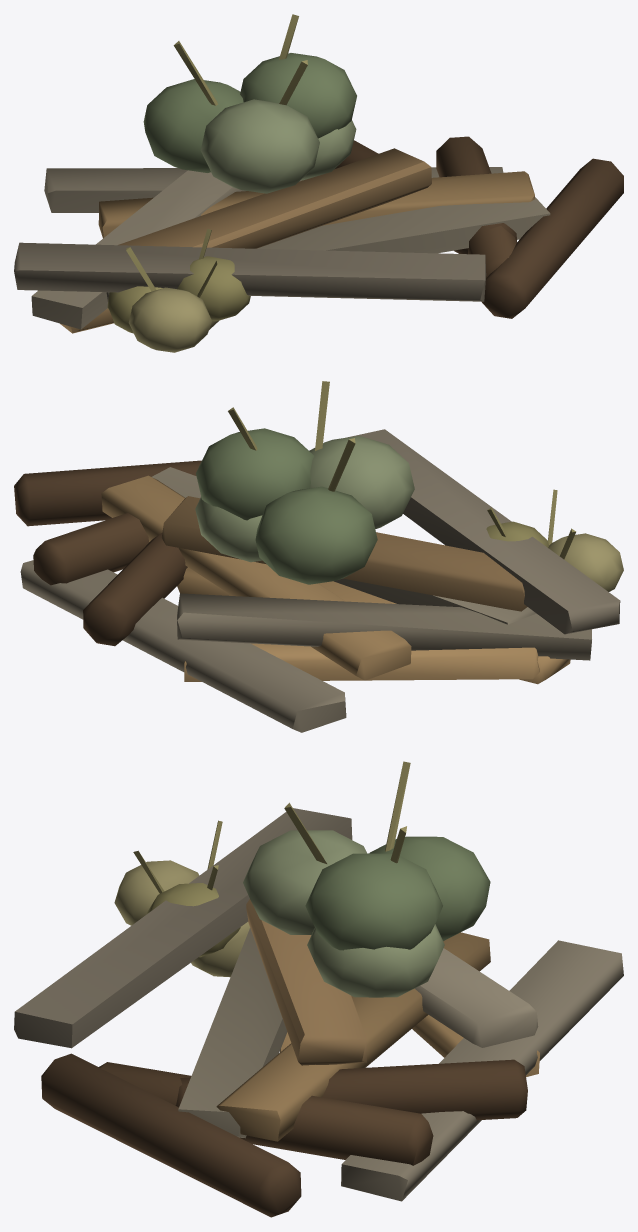
The model's file is timber_lagging_c_lod1.glb.
3 renders of one model, top to bottom at view 1: azimuth 30°, elevation 25°; view 2: azimuth 150°, elevation 25°; view 3: azimuth 270°, elevation 25°, orthographic. The views are drawn at different scales.
Visible parts, largest first — view 1: Surface.001; view 2: Surface.001; view 3: Surface.001.
Boxes of the visible parts, x1,y1,x2,y2 form: Surface.001: (14, 14, 623, 352); Surface.001: (14, 381, 623, 732); Surface.001: (14, 761, 623, 1217).
Size of the model in its own units: 3.59 by 1.29 by 2.75.
